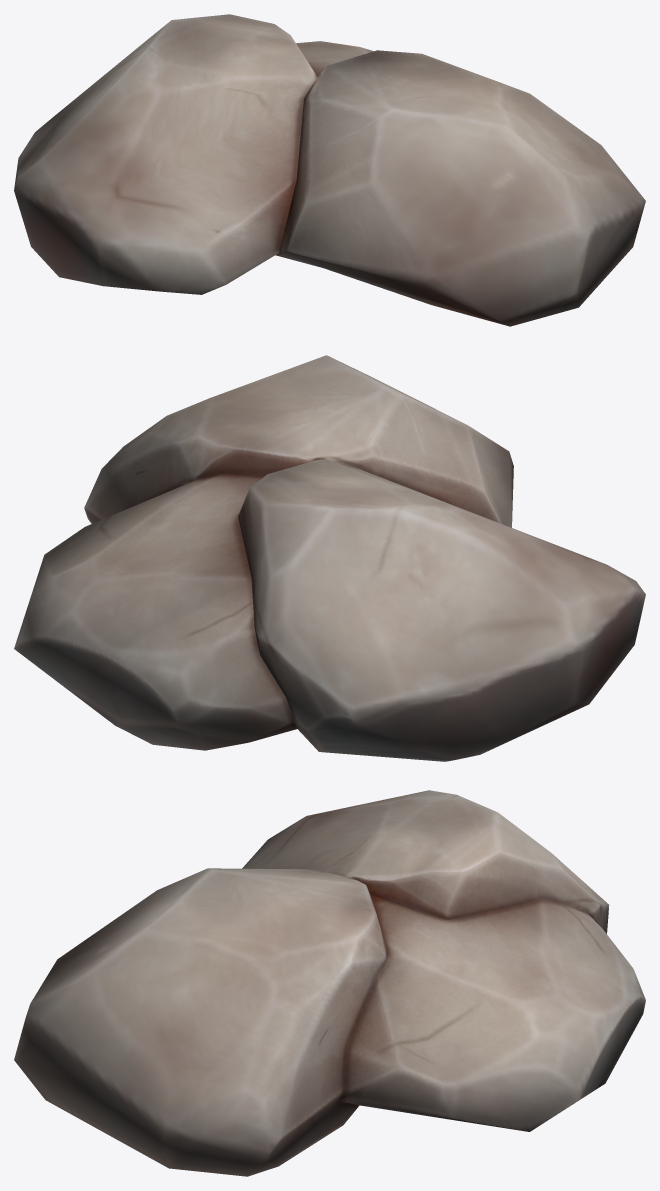
File: SM_Gem_Iron_005.fbx
The picture shows the model from 3 angles, top to bottom: view 1: azimuth 30°, elevation 25°; view 2: azimuth 150°, elevation 25°; view 3: azimuth 270°, elevation 25°; orthographic projection. The views are drawn at different scales.
Parts seen in each view (by area): view 1: SM_Gem_Iron_005; view 2: SM_Gem_Iron_005; view 3: SM_Gem_Iron_005.
Part boxes in pixels (x1=…): SM_Gem_Iron_005: x1=14, y1=14, x2=645, y2=326; SM_Gem_Iron_005: x1=14, y1=355, x2=645, y2=761; SM_Gem_Iron_005: x1=14, y1=790, x2=645, y2=1176.
Size of the model in its own units: 65.21 by 25.21 by 65.72.
